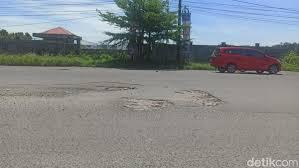Pothole: (28, 82, 142, 100), (120, 95, 178, 115), (182, 89, 228, 108)
